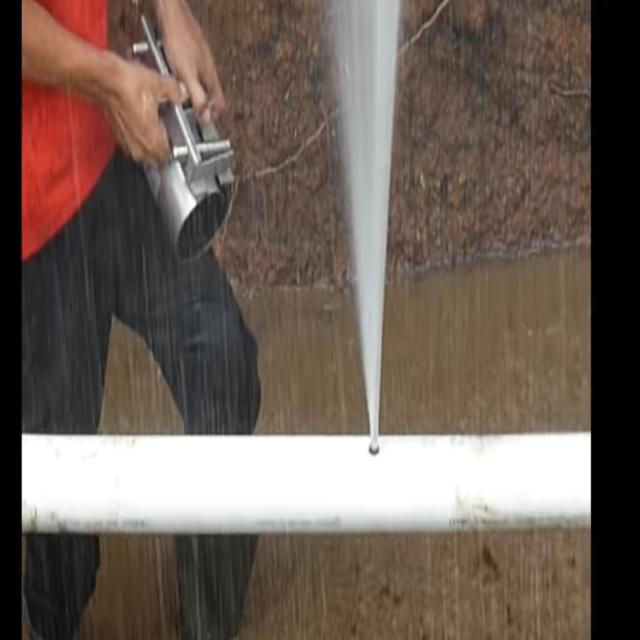leak: (318, 0, 403, 456)
